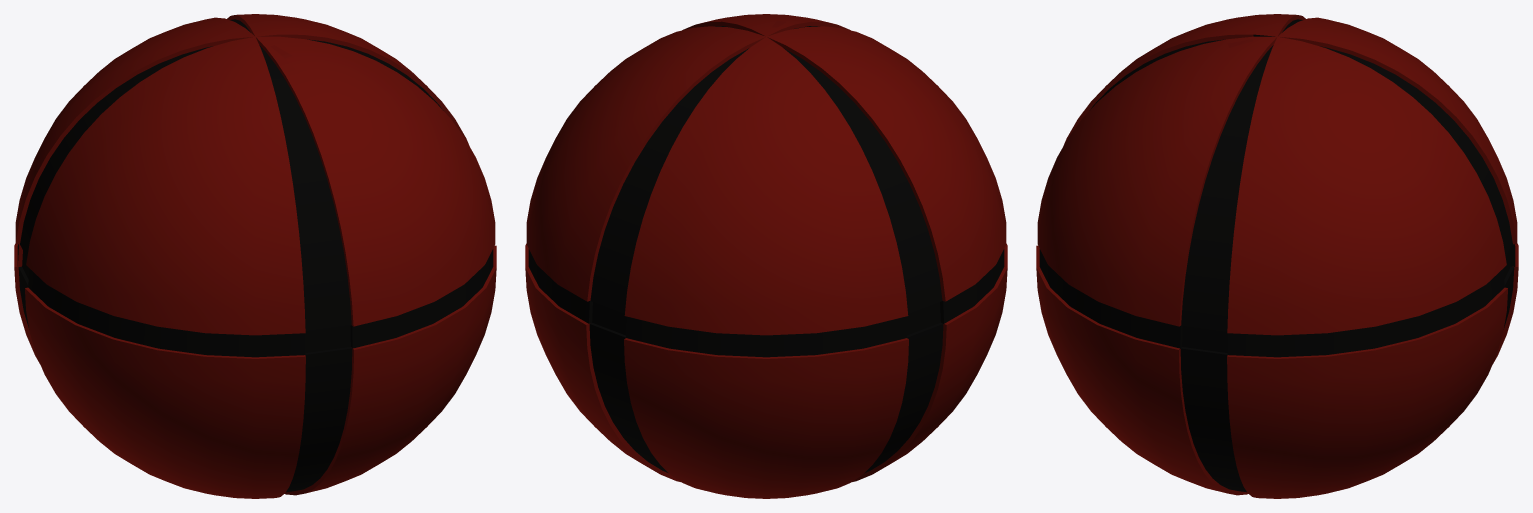
Rendered from msh_randomBall.fbx.
The picture shows the model from 3 angles, left to right: view 1: azimuth 30°, elevation 25°; view 2: azimuth 150°, elevation 25°; view 3: azimuth 270°, elevation 25°; orthographic projection.
Parts seen in each view (by area): view 1: pSphere1; view 2: pSphere1; view 3: pSphere1.
Boxes of the visible parts, x1,y1,x2,y2 form: pSphere1: (14,14,496,498); pSphere1: (525,14,1007,498); pSphere1: (1036,14,1518,498).
Bounding box in the file's own units: 82.06 × 82.06 × 81.61.
